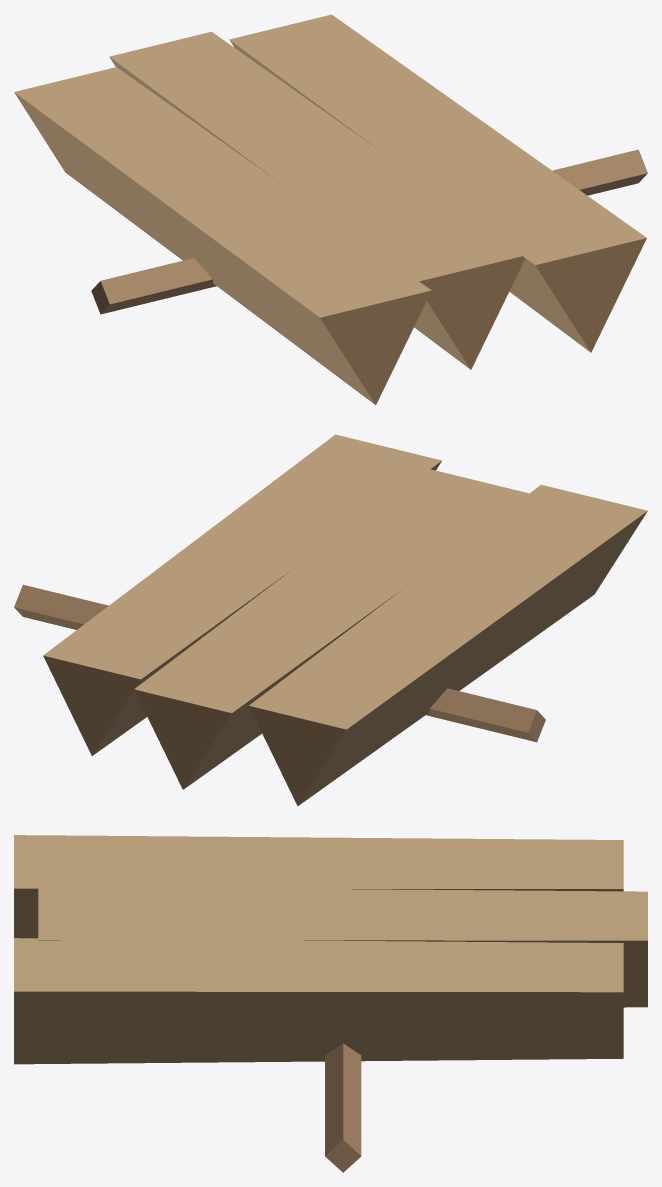
File: item_001_firewood_s.glb
3 renders of one model, top to bottom at view 1: azimuth 30°, elevation 25°; view 2: azimuth 150°, elevation 25°; view 3: azimuth 270°, elevation 25°, orthographic. The views are drawn at different scales.
Visible parts, largest first — view 1: item_001_firewood_s; view 2: item_001_firewood_s; view 3: item_001_firewood_s.
Boxes of the visible parts, box(x1,y1,x2,y2) form: item_001_firewood_s: box(14, 14, 647, 404); item_001_firewood_s: box(14, 434, 647, 805); item_001_firewood_s: box(14, 835, 647, 1172).
Bounding box in the file's own units: 0.5 × 0.095 × 0.52.
